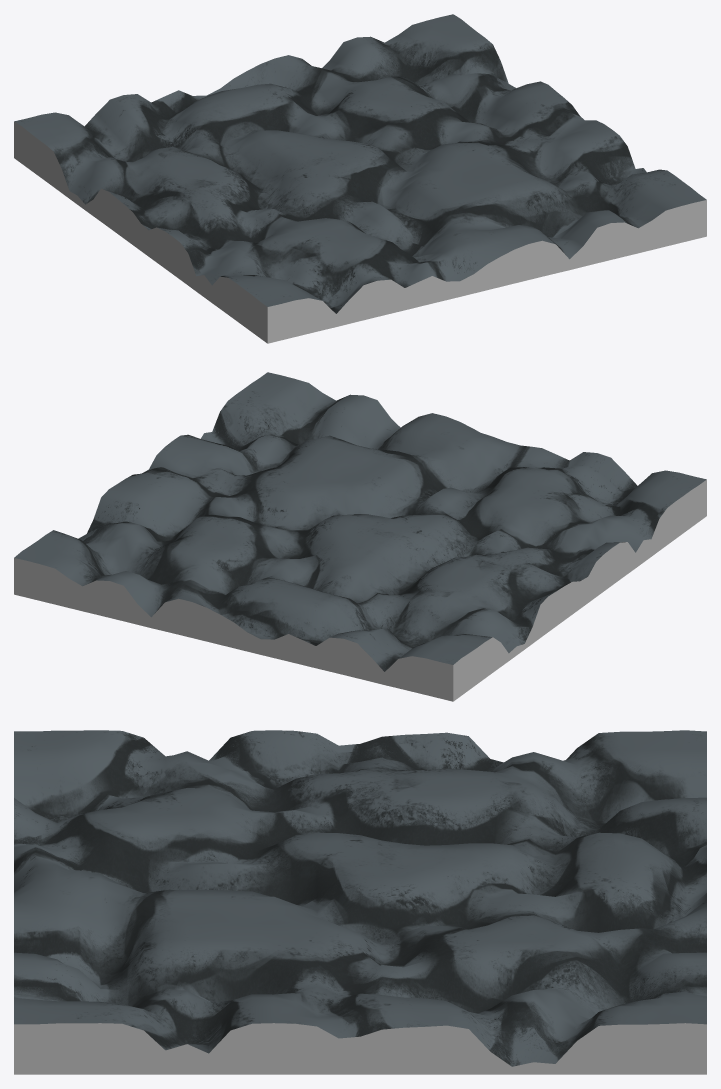
Rendered from stonefloor.fbx.
3 views of the same model, one above another, from view 1: azimuth 30°, elevation 25°; view 2: azimuth 150°, elevation 25°; view 3: azimuth 270°, elevation 25° (orthographic). The views are drawn at different scales.
Visible parts, largest first — view 1: plane, Plane.001; view 2: plane, Plane.001; view 3: plane, Plane.001.
Part boxes in pixels (bbox=[...]): plane: bbox=[14, 14, 706, 313]; Plane.001: bbox=[14, 121, 706, 343]; plane: bbox=[14, 372, 706, 671]; Plane.001: bbox=[14, 479, 706, 701]; plane: bbox=[14, 730, 706, 1066]; Plane.001: bbox=[14, 1023, 706, 1074].
Size of the model in its own units: 200 by 200 by 16.92.
